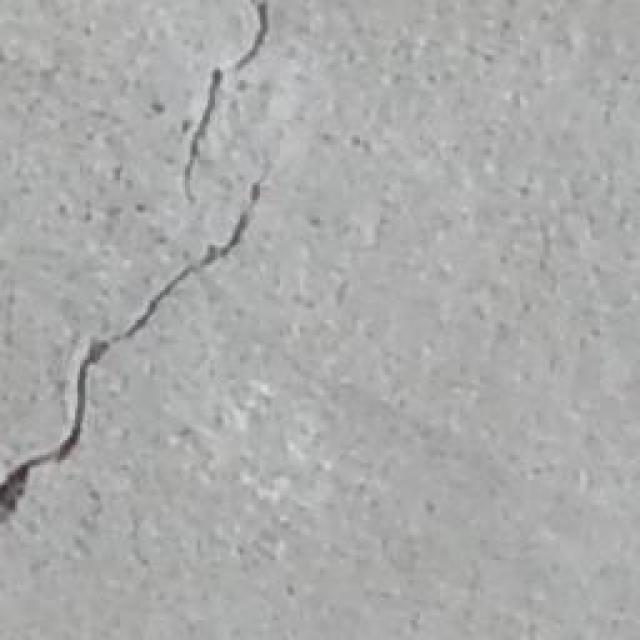concrete-crack: (2, 182, 260, 512), (182, 0, 268, 205)
